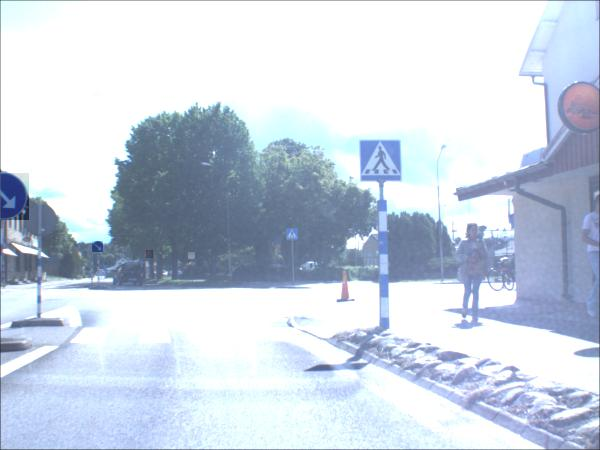50_SIGN: (147, 251, 155, 260)
PASS_RIGHT_SIDE: (2, 174, 31, 222), (94, 242, 106, 254)
PEDESTRIAN_CROSSING: (360, 141, 403, 183), (288, 230, 300, 242), (105, 263, 109, 267)
PRIORITY_ROAD: (189, 254, 197, 262)
